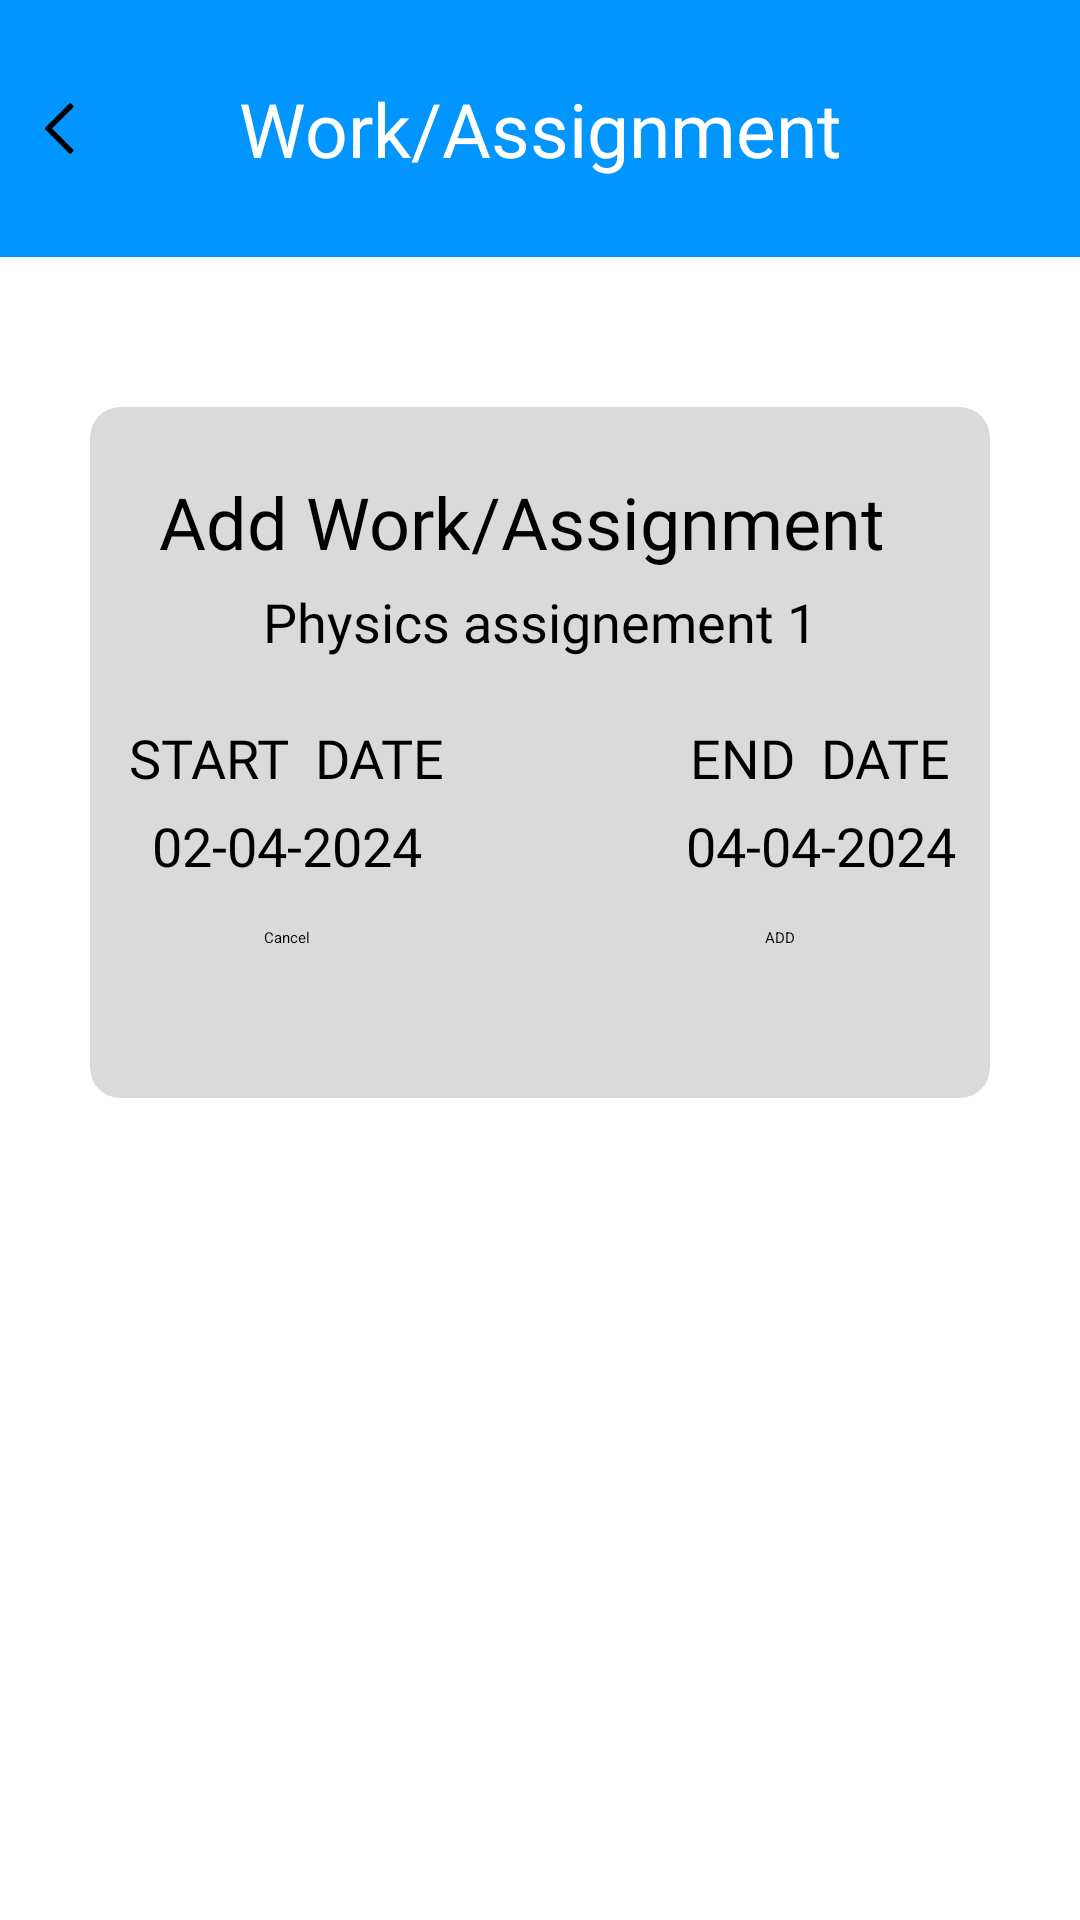

Screen size 1080w x 1920h. Icon name, then its box in pixels as (x1, y1, x2, y2):
back arrow: (45, 103, 74, 154)
